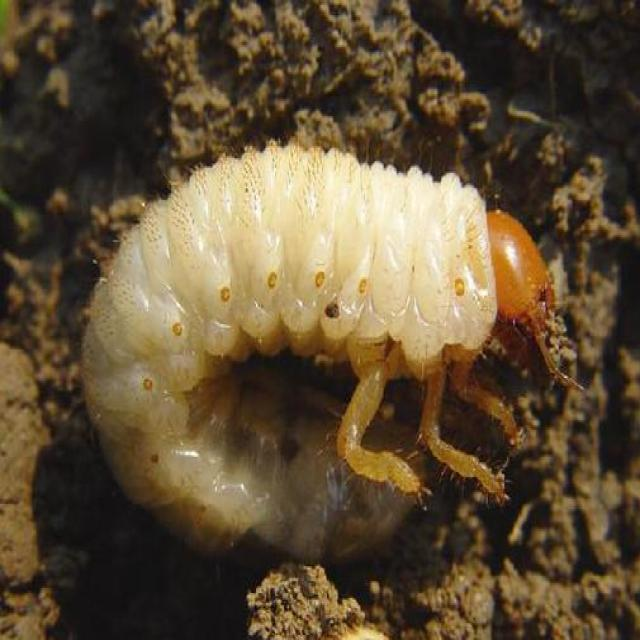Grub-Adult-: (52, 136, 579, 590)
